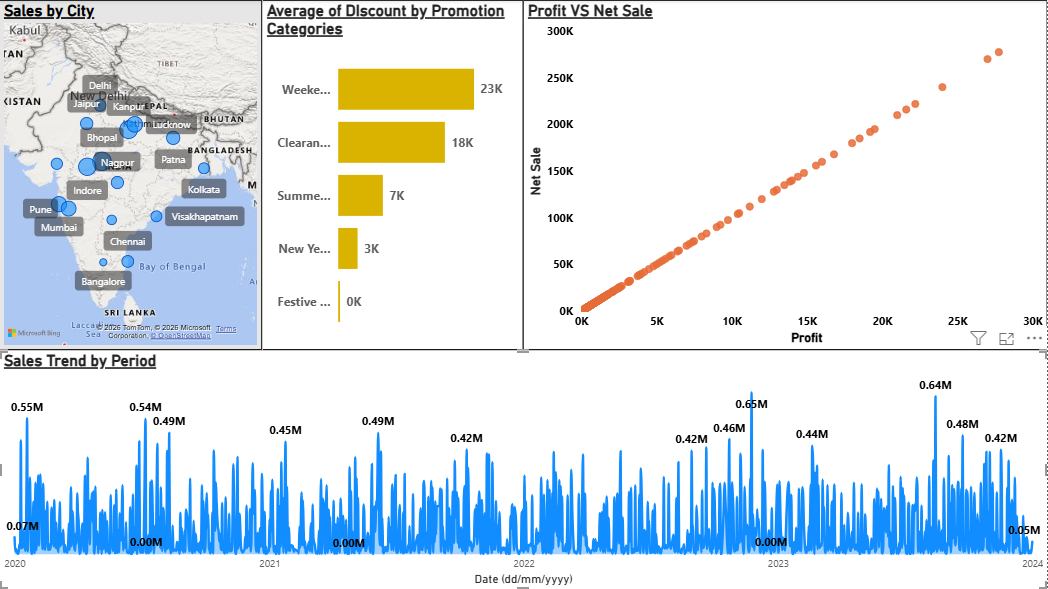

What the dashboard file says about the page in this screenshot:
{"tool":"powerbi","page":{"name":"Overview","canvas":[1280,720],"ordinal":0},"visuals":[{"type":"lineChart","title":"Sales Trend by Period","fields":{"Y":["Sum(Fact Table.Net Sale)"],"Category":["Fact Table.Date (dd/mm/yyyy).Variation.Date Hierarchy.Year"]},"box":[0,426.7,1280,293.2],"z":0},{"type":"scatterChart","title":"Profit VS Net Sale","fields":{"X":["Fact Table.Profit"],"Y":["Fact Table.Net Sale"]},"box":[640,0,640,426.7],"z":1000},{"type":"barChart","title":"Average of DIscount by Promotion Categories","fields":{"Y":["Avg(Fact Table.DIscount)"],"Category":["Dim Promotion.Promotion Name"]},"box":[320.7,0,319.3,426.7],"z":2000},{"type":"map","title":"Sales by City","fields":{"Category":["Dim Customers.City"],"Size":["Sum(Fact Table.Net Sale)"]},"box":[0,0,320.7,426.7],"z":3000}]}

Visuals, with their boxes in screenshot pixels (x1, y1, x2, y2), scaled from the page's 1280x720 canvas onto the 1048x589 screenshot:
"Sales Trend by Period" lineChart: crop(0, 349, 1047, 588)
"Profit VS Net Sale" scatterChart: crop(524, 0, 1047, 349)
"Average of DIscount by Promotion Categories" barChart: crop(263, 0, 524, 349)
"Sales by City" map: crop(0, 0, 263, 349)
